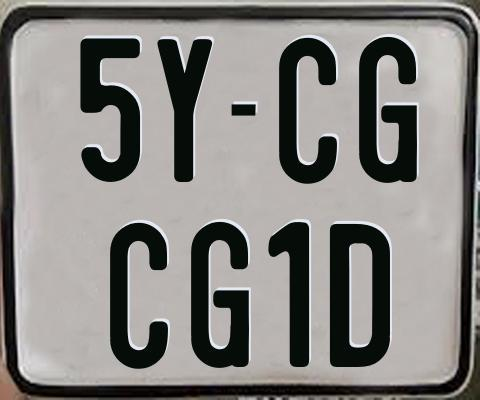1: (266, 219, 310, 369)
5: (79, 36, 144, 186)
C: (279, 38, 339, 186), (109, 222, 169, 368)
D: (328, 224, 393, 372)
G: (191, 219, 255, 365), (356, 35, 415, 182)
Y: (156, 39, 215, 183)
